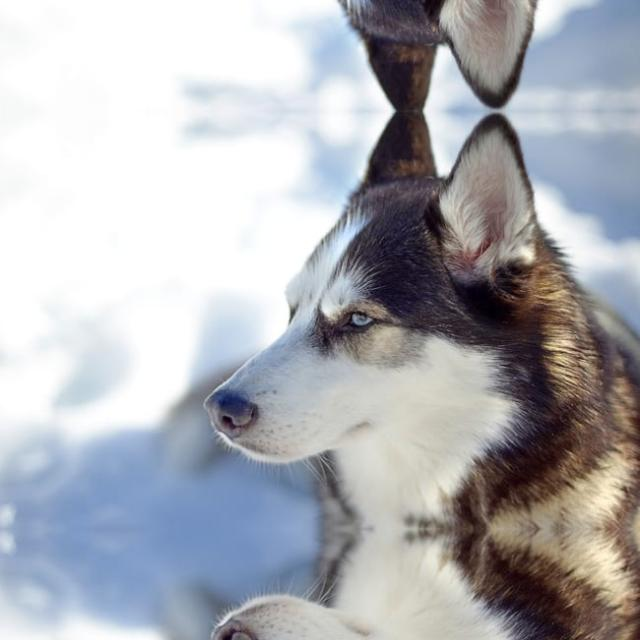dog: (208, 114, 640, 526), (208, 530, 640, 640), (208, 0, 640, 106)
